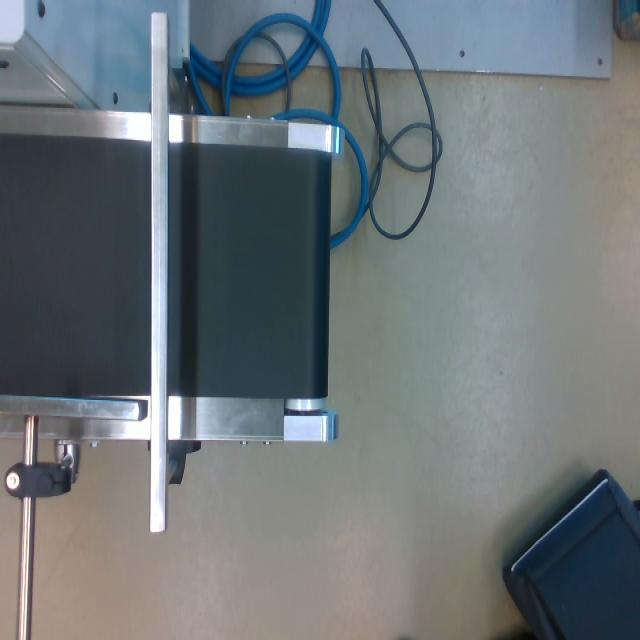conveyor: (0, 103, 344, 442)
